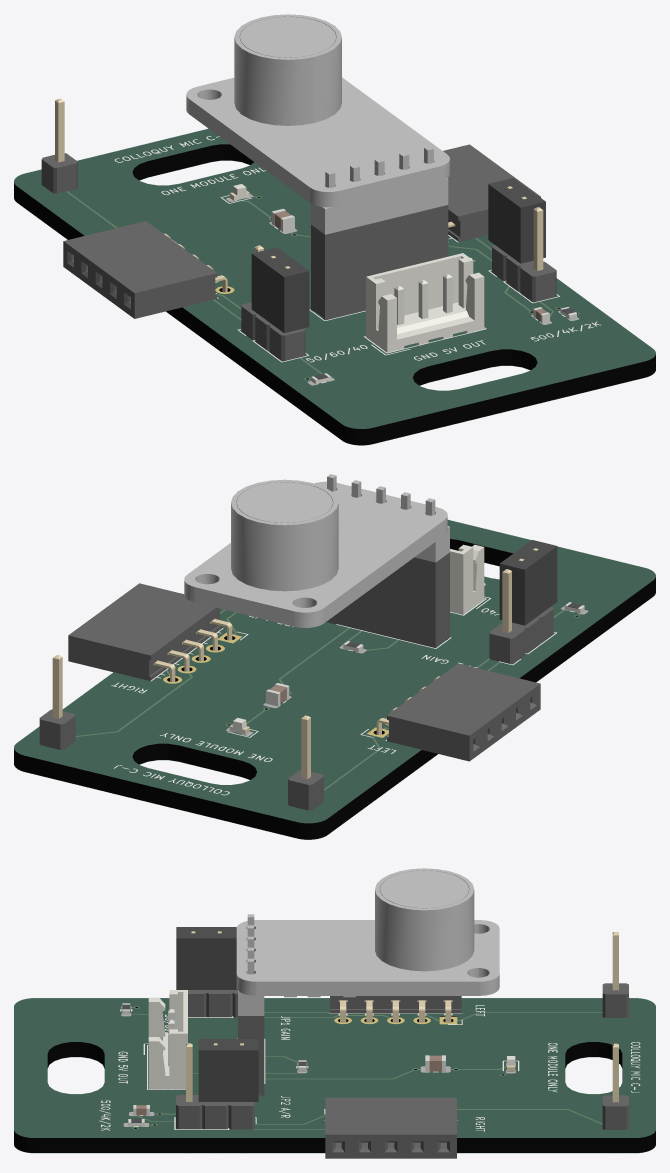
The model's file is microphone-flex-up.glb.
3 views of the same model, one above another, from view 1: azimuth 30°, elevation 25°; view 2: azimuth 150°, elevation 25°; view 3: azimuth 270°, elevation 25° (orthographic). The views are drawn at different scales.
Parts seen in each view (by area): view 1: microphone-flex-up_visual_layers_1, microphone-flex-up_visual_layers_4, M1.001, J2, J1, M1, JP1.001, J3, JP2.001, JP2, JP1, TP2 (+2 smaller); view 2: microphone-flex-up_visual_layers_1, microphone-flex-up_visual_layers_4, M1.001, J3, J2, M1, JP1.001, JP1, J1, TP1, TP2, microphone-flex-up_visual_layers_7 (+2 smaller); view 3: microphone-flex-up_visual_layers_1, microphone-flex-up_visual_layers_4, M1.001, J3, JP1.001, JP2.001, J1, JP2, J2, microphone-flex-up_visual_layers_7, JP1, TP1 (+4 smaller).
Part boxes in pixels (left/top/right/bottom): microphone-flex-up_visual_layers_1: left=14, top=129, right=655, bottom=445; microphone-flex-up_visual_layers_4: left=14, top=128, right=655, bottom=428; M1.001: left=186, top=14, right=449, bottom=234; J2: left=63, top=221, right=227, bottom=318; J1: left=366, top=253, right=484, bottom=352; M1: left=311, top=205, right=448, bottom=320; JP1.001: left=251, top=247, right=309, bottom=332; J3: left=443, top=144, right=540, bottom=241; JP2.001: left=488, top=178, right=545, bottom=263; JP2: left=492, top=186, right=556, bottom=302; JP1: left=241, top=245, right=305, bottom=361; TP2: left=41, top=98, right=77, bottom=193; microphone-flex-up_visual_layers_1: left=14, top=520, right=655, bottom=839; microphone-flex-up_visual_layers_4: left=14, top=519, right=655, bottom=823; M1.001: left=184, top=474, right=449, bottom=627; J3: left=68, top=583, right=232, bottom=681; J2: left=376, top=663, right=540, bottom=761; M1: left=326, top=552, right=449, bottom=648; JP1.001: left=499, top=540, right=557, bottom=625; JP1: left=489, top=548, right=553, bottom=663; J1: left=450, top=544, right=484, bottom=614; TP1: left=39, top=655, right=75, bottom=749; TP2: left=288, top=715, right=323, bottom=810; microphone-flex-up_visual_layers_7: left=111, top=583, right=574, bottom=795; microphone-flex-up_visual_layers_1: left=14, top=999, right=655, bottom=1152; microphone-flex-up_visual_layers_4: left=14, top=998, right=655, bottom=1137; M1.001: left=236, top=868, right=499, bottom=1015; J3: left=325, top=1097, right=456, bottom=1158; JP1.001: left=176, top=927, right=236, bottom=989; JP2.001: left=198, top=1039, right=258, bottom=1101; J1: left=148, top=990, right=187, bottom=1089; JP2: left=176, top=1043, right=254, bottom=1129; J2: left=330, top=996, right=461, bottom=1022; microphone-flex-up_visual_layers_7: left=99, top=1005, right=640, bottom=1131; JP1: left=188, top=931, right=237, bottom=1017; TP1: left=602, top=1043, right=628, bottom=1129.
Size of the model in its own units: 0.0416 by 0.0224 by 0.062.
